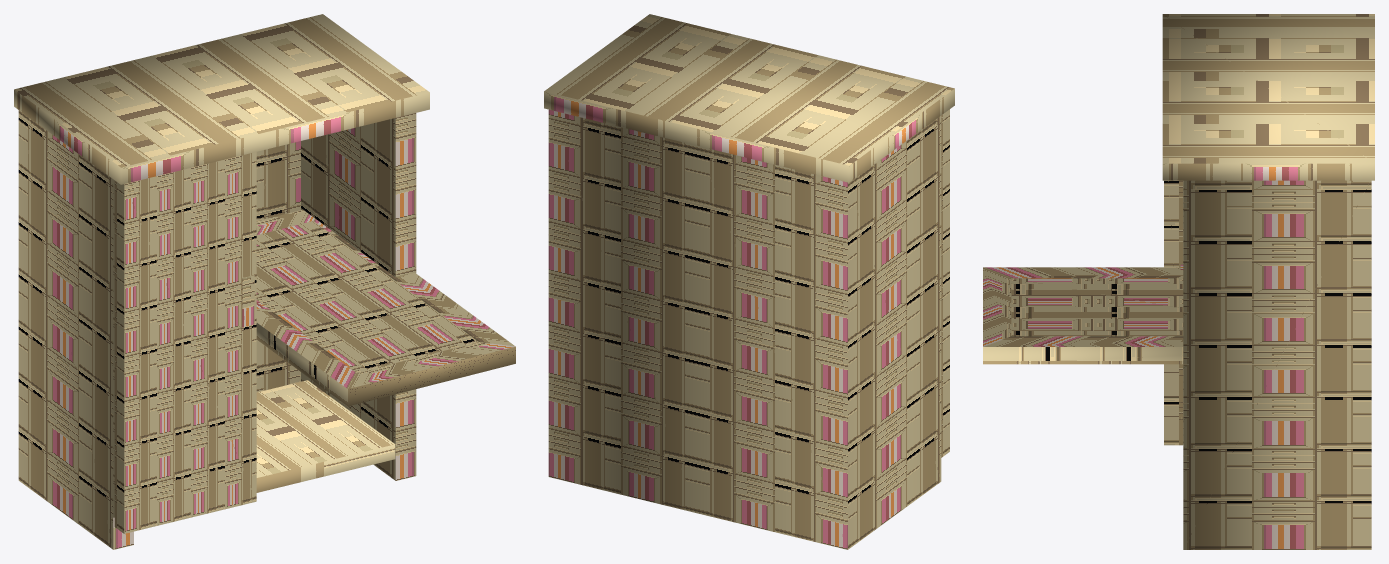
File: 3125IMRL09_18.gltf
3 renders of one model, left to right at view 1: azimuth 30°, elevation 25°; view 2: azimuth 150°, elevation 25°; view 3: azimuth 270°, elevation 25°, orthographic.
Parts seen in each view (by area): view 1: 3125IMRL09_18; view 2: 3125IMRL09_18; view 3: 3125IMRL09_18.
Boxes of the visible parts, x1,y1,x2,y2 form: 3125IMRL09_18: [14, 14, 515, 549]; 3125IMRL09_18: [544, 14, 954, 549]; 3125IMRL09_18: [983, 14, 1374, 549].
Size of the model in its own units: 1.65 by 1.99 by 1.83.
1 material, 1 textured.
